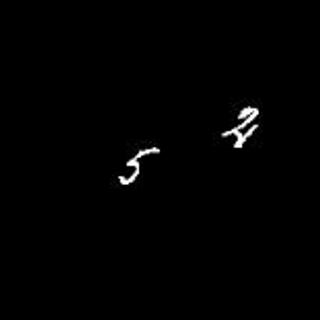five: (118, 148, 160, 188)
two: (225, 103, 264, 136)
